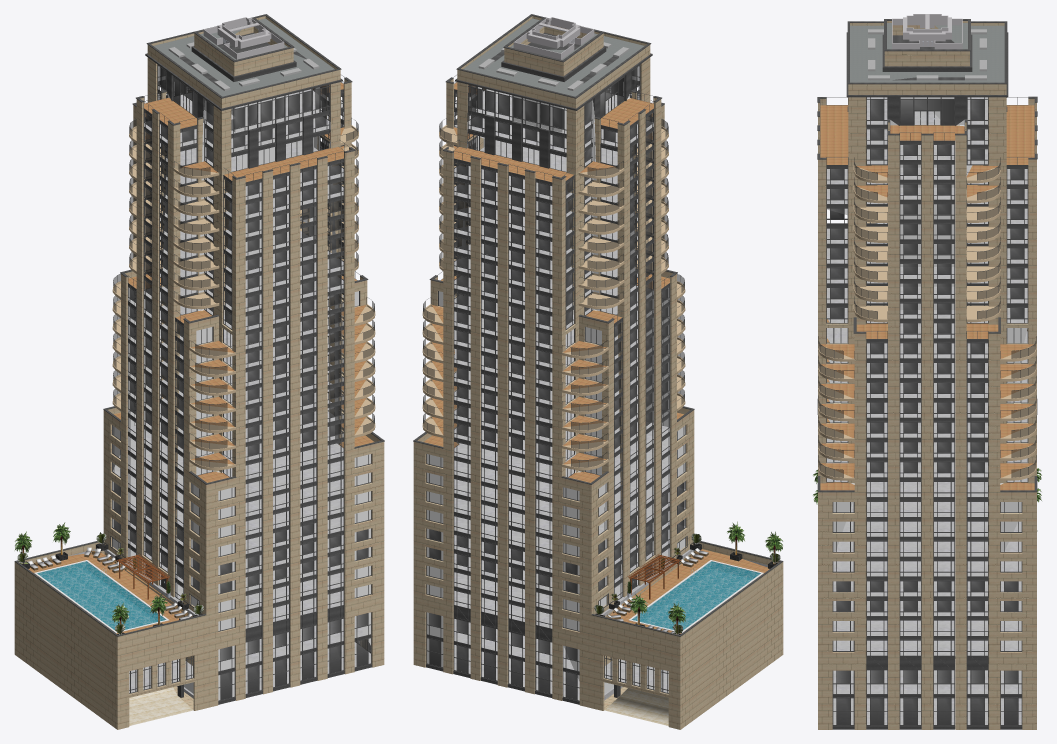
Rendered from bld_melodia-hotel.glb.
3 views of the same model, side by side, from view 1: azimuth 30°, elevation 25°; view 2: azimuth 150°, elevation 25°; view 3: azimuth 270°, elevation 25° (orthographic). The views are drawn at different scales.
Parts seen in each view (by area): view 1: Mesh78__34_0, Mesh35_Dark_Steel_0, Mesh17___0, Mesh35_Glass_0, Mesh35_FrontColor_0, Mesh654__31_0, Mesh320__32_0, Mesh330__159_0, Mesh320__Water_Pool_Light_1_0, Mesh78_Blacktop_Old_02_0, Mesh1641__57_0, Mesh115_wanddeko_palmen_1168_0 (+3 smaller); view 2: Mesh78__34_0, Mesh35_Dark_Steel_0, Mesh17___0, Mesh35_Glass_0, Mesh654__31_0, Mesh35_FrontColor_0, Mesh320__32_0, Mesh330__159_0, Mesh320__Water_Pool_Light_1_0, Mesh78_Blacktop_Old_02_0, Mesh1641__57_0, Mesh115_wanddeko_palmen_1168_0 (+3 smaller); view 3: Mesh78__34_0, Mesh17___0, Mesh35_Dark_Steel_0, Mesh35_Glass_0, Mesh654__31_0, Mesh320__32_0, Mesh35_FrontColor_0, Mesh330__159_0, Mesh78_Blacktop_Old_02_0, Mesh62_Metal_Steel_Textured_White_0.
Part boxes in pixels (x1=…): Mesh78__34_0: x1=14, y1=16, x2=384, y2=729; Mesh35_Dark_Steel_0: x1=14, y1=14, x2=384, y2=704; Mesh17___0: x1=43, y1=89, x2=370, y2=698; Mesh35_Glass_0: x1=114, y1=67, x2=370, y2=699; Mesh35_FrontColor_0: x1=28, y1=17, x2=370, y2=700; Mesh654__31_0: x1=112, y1=125, x2=375, y2=470; Mesh320__32_0: x1=28, y1=82, x2=374, y2=633; Mesh330__159_0: x1=113, y1=119, x2=374, y2=467; Mesh320__Water_Pool_Light_1_0: x1=37, y1=561, x2=165, y2=630; Mesh78_Blacktop_Old_02_0: x1=153, y1=18, x2=334, y2=96; Mesh1641__57_0: x1=129, y1=687, x2=193, y2=725; Mesh115_wanddeko_palmen_1168_0: x1=14, y1=522, x2=167, y2=634; Mesh78__34_0: x1=413, y1=16, x2=783, y2=729; Mesh35_Dark_Steel_0: x1=413, y1=14, x2=783, y2=704; Mesh17___0: x1=454, y1=89, x2=767, y2=700; Mesh35_Glass_0: x1=430, y1=67, x2=683, y2=699; Mesh654__31_0: x1=422, y1=125, x2=685, y2=470; Mesh35_FrontColor_0: x1=427, y1=17, x2=699, y2=693; Mesh320__32_0: x1=424, y1=82, x2=769, y2=633; Mesh330__159_0: x1=423, y1=119, x2=684, y2=467; Mesh320__Water_Pool_Light_1_0: x1=632, y1=561, x2=760, y2=629; Mesh78_Blacktop_Old_02_0: x1=463, y1=18, x2=644, y2=96; Mesh1641__57_0: x1=604, y1=688, x2=668, y2=725; Mesh115_wanddeko_palmen_1168_0: x1=629, y1=521, x2=782, y2=634; Mesh78__34_0: x1=818, y1=21, x2=1036, y2=729; Mesh17___0: x1=826, y1=97, x2=1027, y2=728; Mesh35_Dark_Steel_0: x1=817, y1=19, x2=1037, y2=729; Mesh35_Glass_0: x1=830, y1=99, x2=1023, y2=724; Mesh654__31_0: x1=818, y1=165, x2=1036, y2=480; Mesh320__32_0: x1=820, y1=105, x2=1034, y2=490; Mesh35_FrontColor_0: x1=833, y1=14, x2=1027, y2=661; Mesh330__159_0: x1=818, y1=163, x2=1036, y2=477; Mesh78_Blacktop_Old_02_0: x1=850, y1=23, x2=1004, y2=82; Mesh62_Metal_Steel_Textured_White_0: x1=868, y1=29, x2=986, y2=80.
Bounding box in the file's own units: 45.67 × 100 × 31.63.
25 materials, 25 textured.
